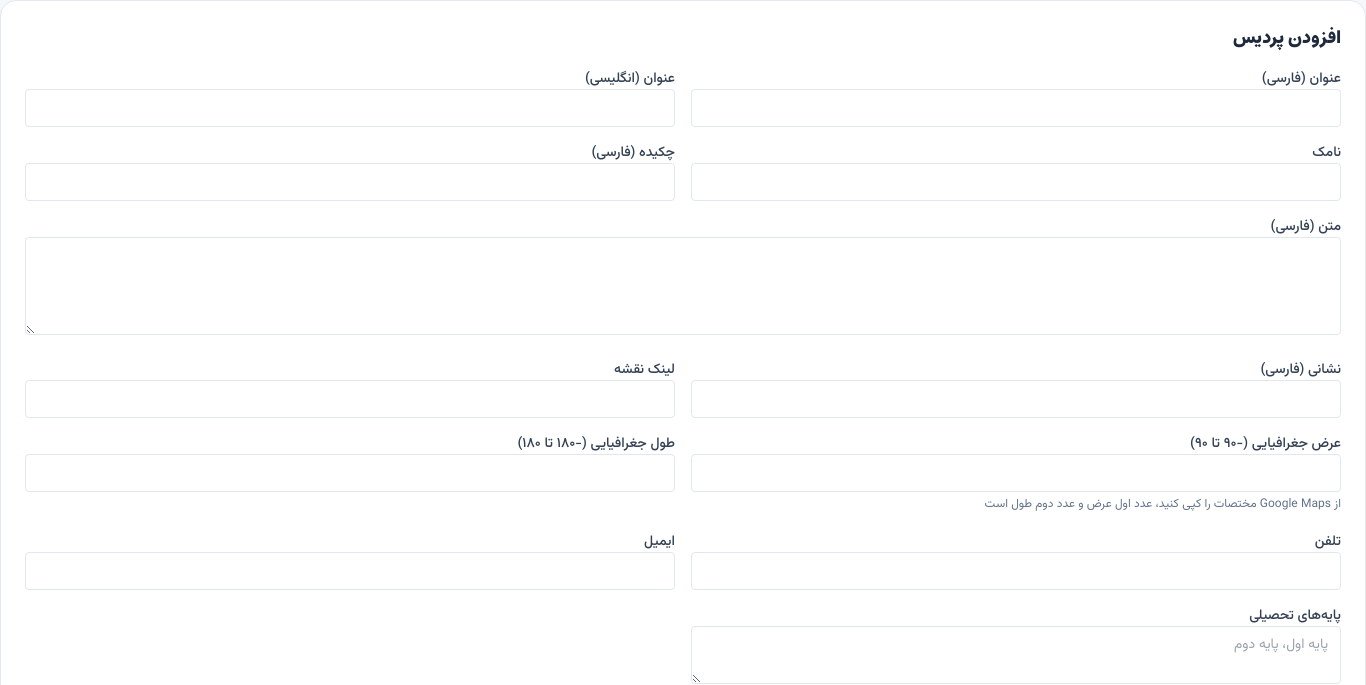
Test case: CampusForm map coordinates › blocks saving out-of-range coordinates
Type "پردیس مرکزی" into the field labelled "عنوان (فارسی)".
click(1016, 108); type("پردیس مرکزی")  # box [691, 89, 1341, 127]
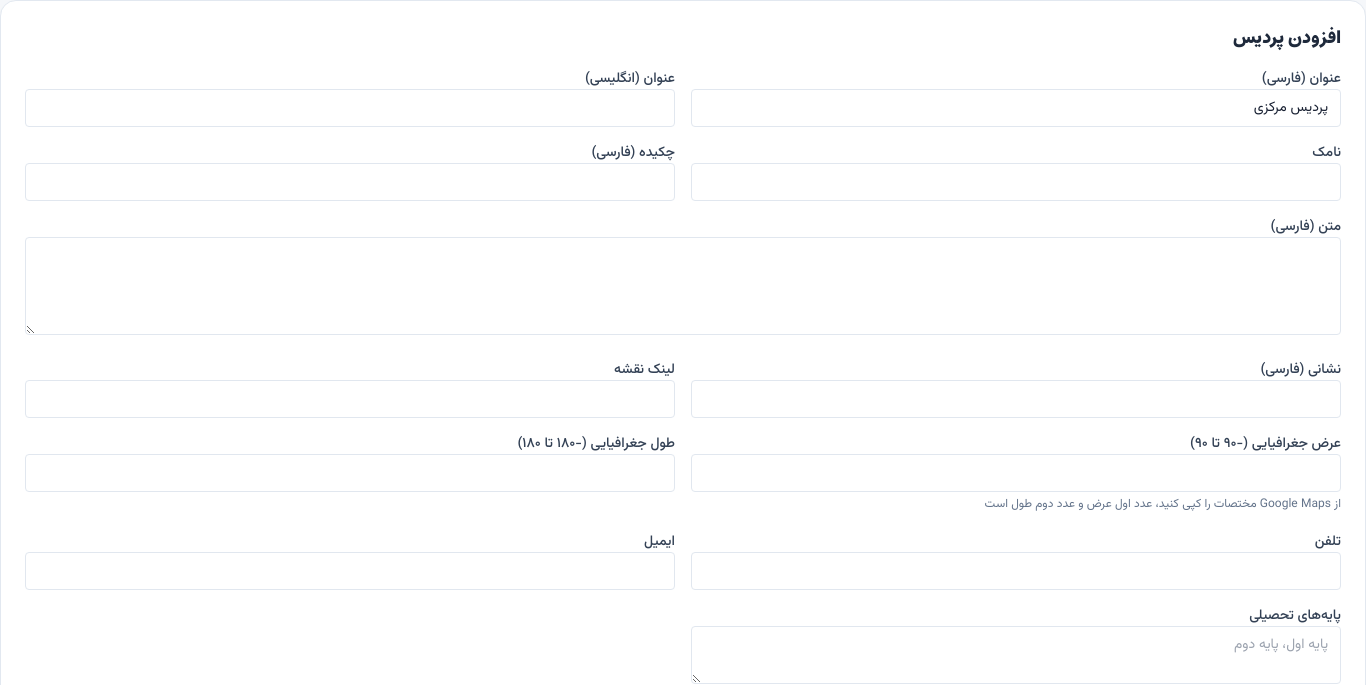
Type "central-campus" into the field labelled "نامک".
click(1016, 182); type("central-campus")  # box [691, 163, 1341, 201]
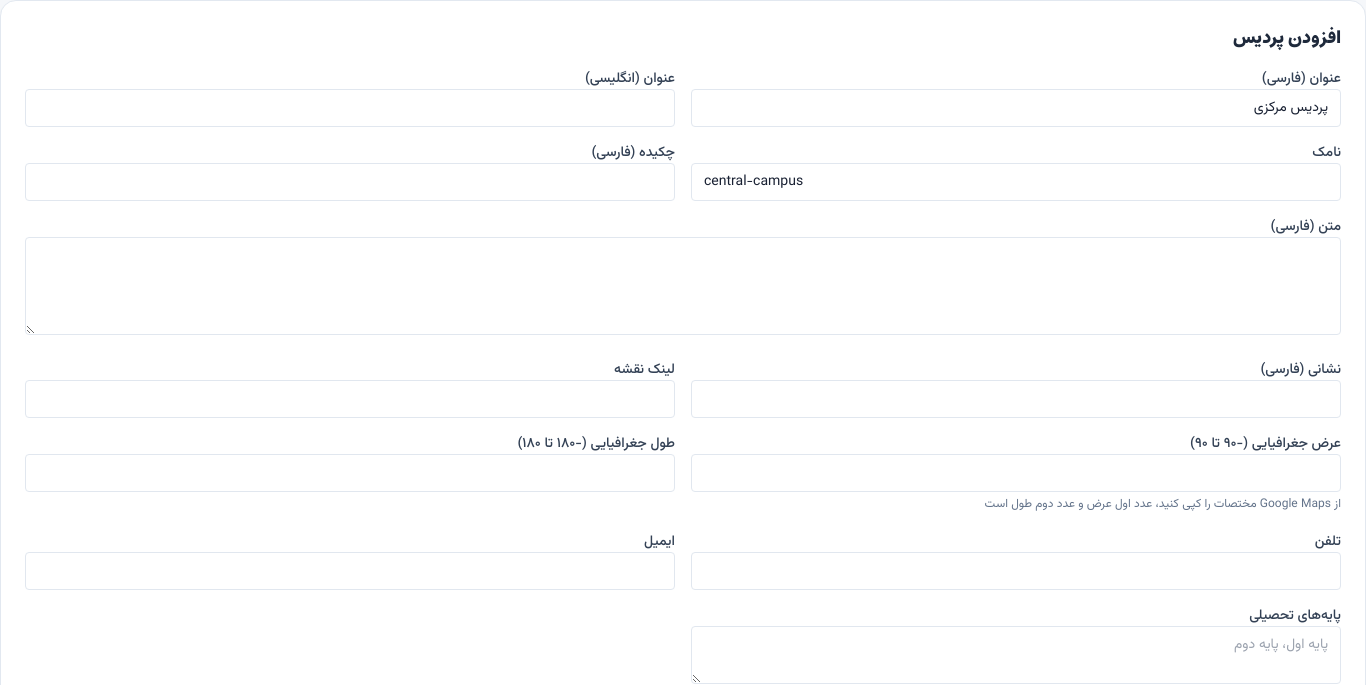
Type "توضیحات" into the text box labelled "متن (فارسی)".
click(683, 286); type("توضیحات")  # box [25, 237, 1341, 335]
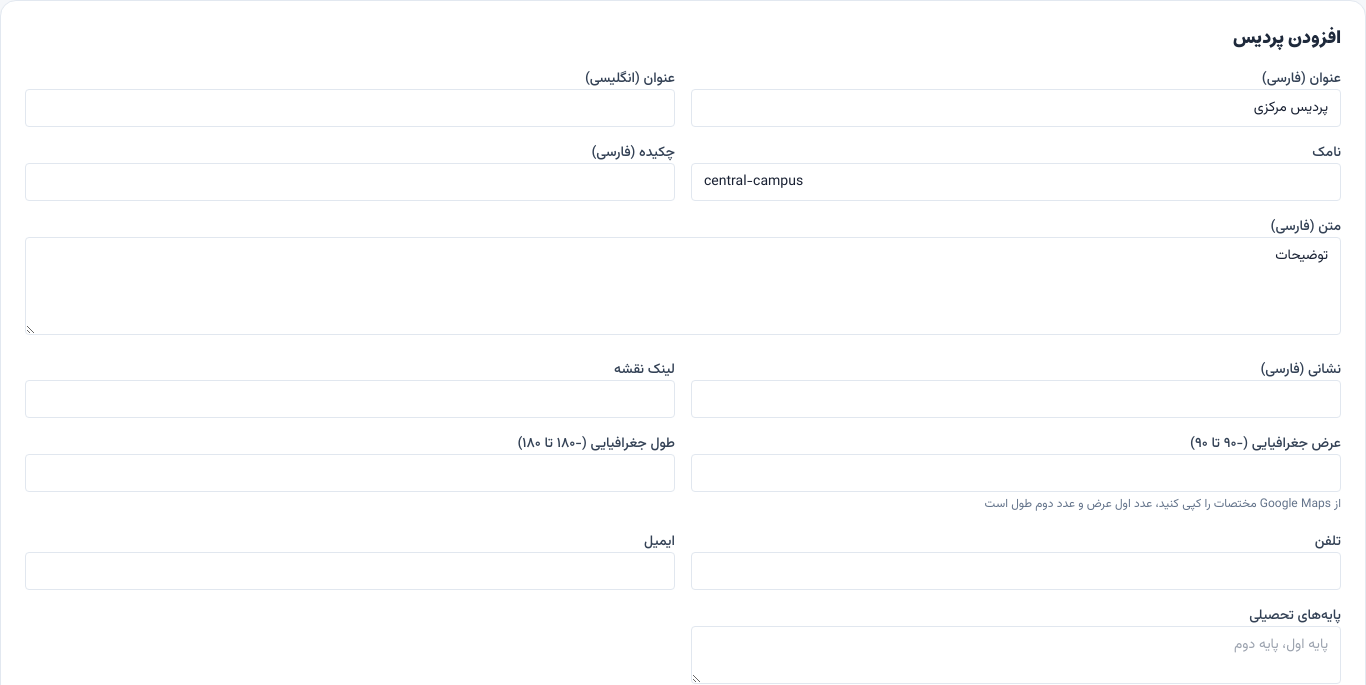
Type "90.01" into the number field labelled "عرض جغرافیایی (−۹۰ تا ۹۰)".
click(1016, 473); type("90.01")  # box [691, 454, 1341, 492]
(page scrolled)
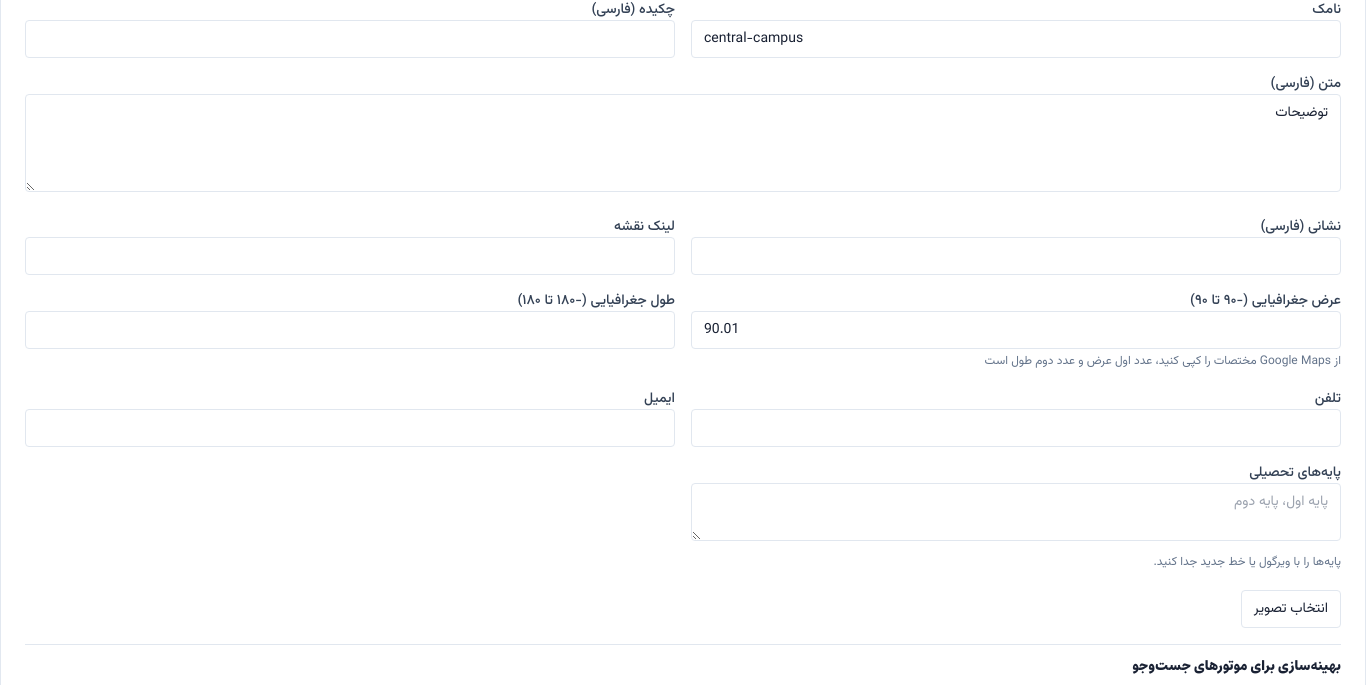
Submit the form named "فرم پردیس"
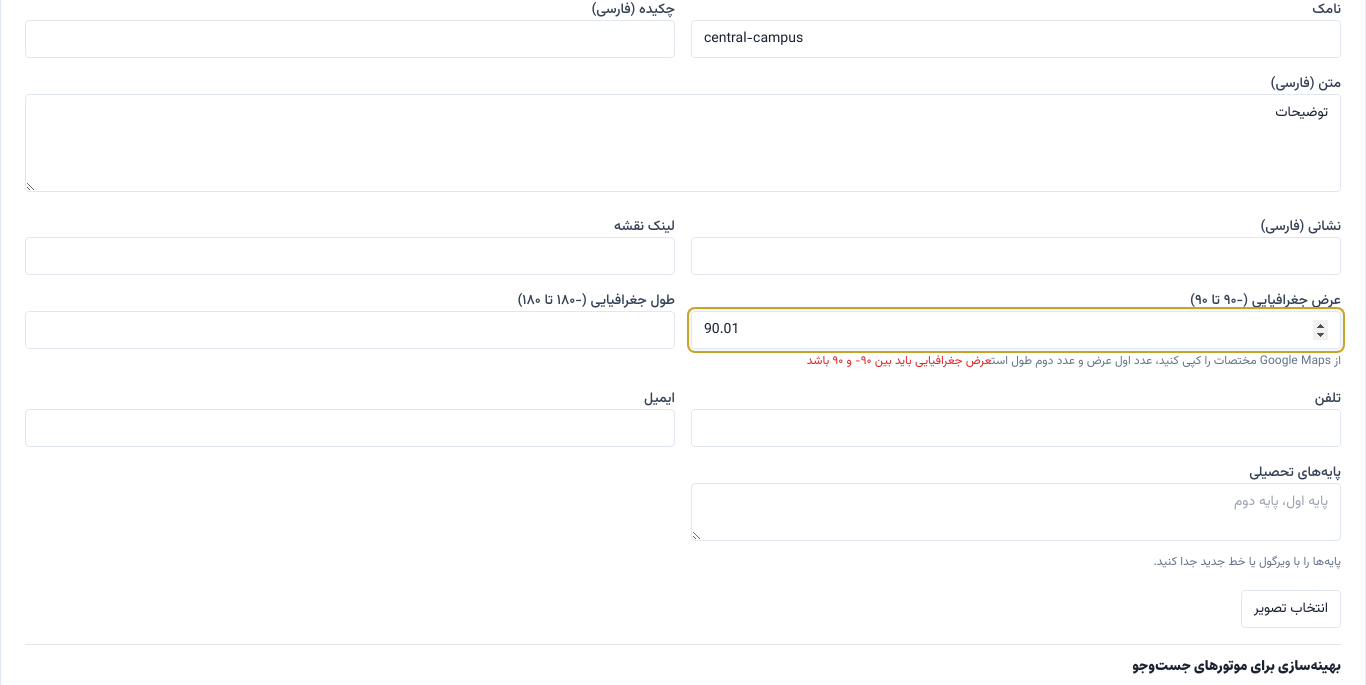
Expected: the text "عرض جغرافیایی باید بین ۹۰- و ۹۰ باشد" is shown, [807, 352, 991, 370]
